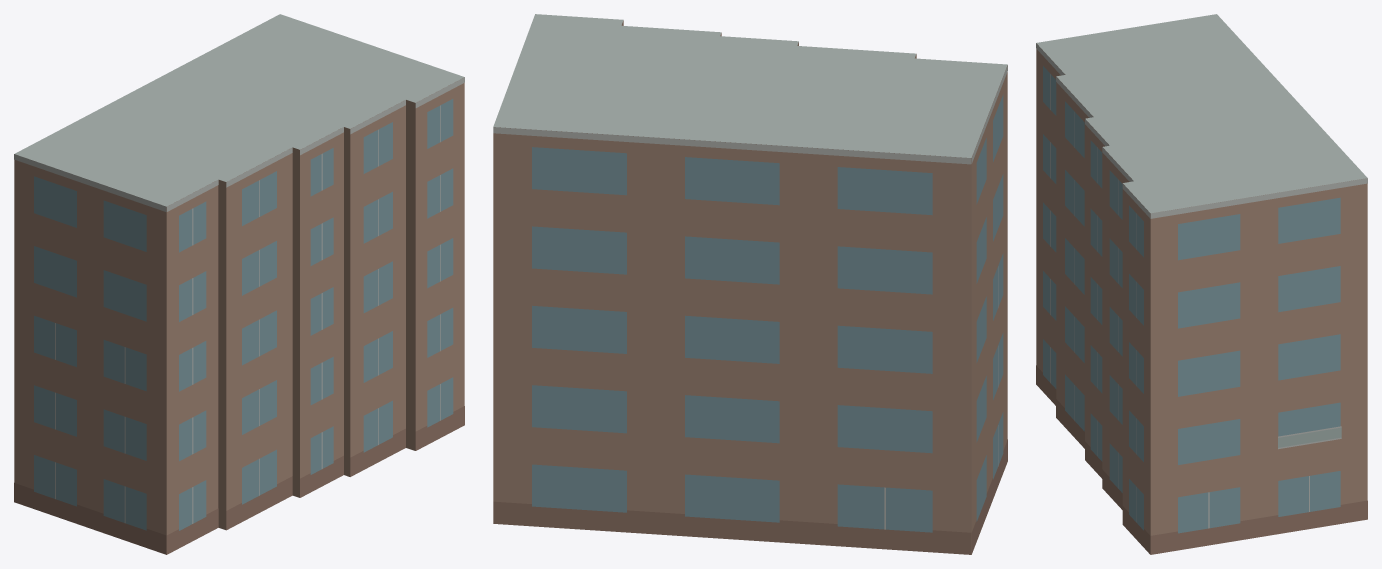
The model's file is survey-upis-32961438.glb.
3 views of the same model, side by side, from view 1: azimuth 30°, elevation 25°; view 2: azimuth 150°, elevation 25°; view 3: azimuth 270°, elevation 25° (orthographic). The views are drawn at different scales.
Visible parts, largest first — view 1: survey-upis-32961438.tmp; view 2: survey-upis-32961438.tmp; view 3: survey-upis-32961438.tmp.
Part boxes in pixels (bbox=[...]): survey-upis-32961438.tmp: bbox=[14, 14, 464, 554]; survey-upis-32961438.tmp: bbox=[493, 14, 1007, 554]; survey-upis-32961438.tmp: bbox=[1036, 14, 1367, 554].
Bounding box in the file's own units: 19.11 × 15.25 × 13.44.
